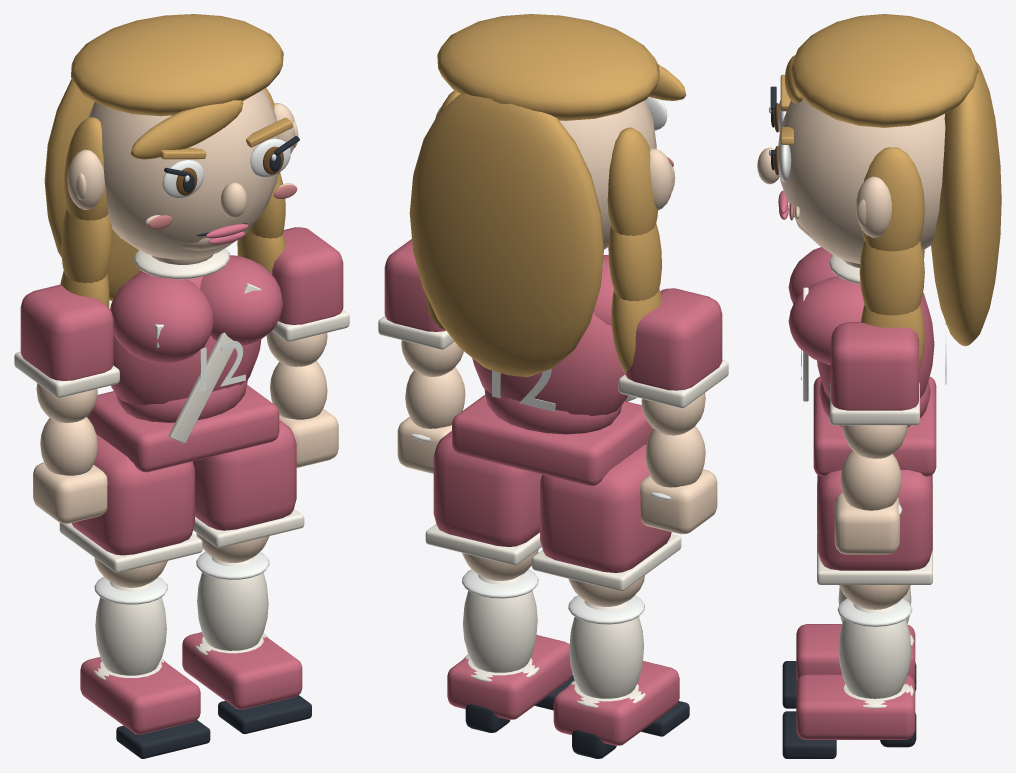
The model's file is Selin.fbx.
3 renders of one model, left to right at view 1: azimuth 30°, elevation 25°; view 2: azimuth 150°, elevation 25°; view 3: azimuth 270°, elevation 25°, orthographic. The views are drawn at different scales.
Parts seen in each view (by area): view 1: HairCap, Head, Shorts_Left, Waist, Shorts_Right, Sleeve_Left, TailoredChest, HeelShoeUpper_Right, HeelShoeUpper_Left, Sleeve_Right, TailoredChest.001, FittedTorso (+34 smaller); view 2: LongHairBack, HairCap, Shorts_Left, Waist, Shorts_Right, Sleeve_Left, FittedTorso, HeelShoeUpper_Left, HeelShoeUpper_Right, Sock_Left, Sock_Right, LongSideLock (+26 smaller); view 3: HairCap, Head, LongHairBack, Sleeve_Right, HeelShoeUpper_Right, Shorts_Right, Sock_Right, Waist, TailoredChest.001, LongSideLock.003, LongSideLock.004, Hand_Right (+18 smaller).
Part boxes in pixels (<box>): HairCap: <box>71,14,283,116</box>; Head: <box>88,89,279,259</box>; Shorts_Left: <box>71,434,194,555</box>; Waist: <box>87,385,279,472</box>; Shorts_Right: <box>193,420,296,530</box>; Sleeve_Left: <box>20,284,113,380</box>; TailoredChest: <box>110,273,213,363</box>; HeelShoeUpper_Right: <box>182,632,302,709</box>; HeelShoeUpper_Left: <box>80,657,200,734</box>; Sleeve_Right: <box>272,227,343,324</box>; TailoredChest.001: <box>200,255,282,345</box>; FittedTorso: <box>111,270,261,405</box>; LongHairBack: <box>409,93,603,376</box>; HairCap: <box>437,14,659,120</box>; Shorts_Left: <box>540,444,671,572</box>; Waist: <box>452,394,653,485</box>; Shorts_Right: <box>433,431,541,546</box>; Sleeve_Left: <box>625,288,722,390</box>; FittedTorso: <box>472,312,627,416</box>; HeelShoeUpper_Left: <box>553,661,679,745</box>; HeelShoeUpper_Right: <box>447,635,572,719</box>; Sock_Left: <box>569,600,643,698</box>; Sock_Right: <box>463,575,537,672</box>; LongSideLock: <box>607,127,657,235</box>; HairCap: <box>790,14,978,127</box>; Head: <box>778,98,945,263</box>; LongHairBack: <box>931,61,1001,346</box>; Sleeve_Right: <box>830,322,918,410</box>; HeelShoeUpper_Right: <box>796,674,915,739</box>; Shorts_Right: <box>817,470,932,570</box>; Sock_Right: <box>838,603,911,698</box>; Waist: <box>813,376,936,476</box>; TailoredChest.001: <box>788,276,864,365</box>; LongSideLock.003: <box>862,147,924,251</box>; LongSideLock.004: <box>859,241,924,315</box>; Hand_Right: <box>834,492,899,554</box>.
Size of the model in its own units: 89.61 by 195 by 63.73.
